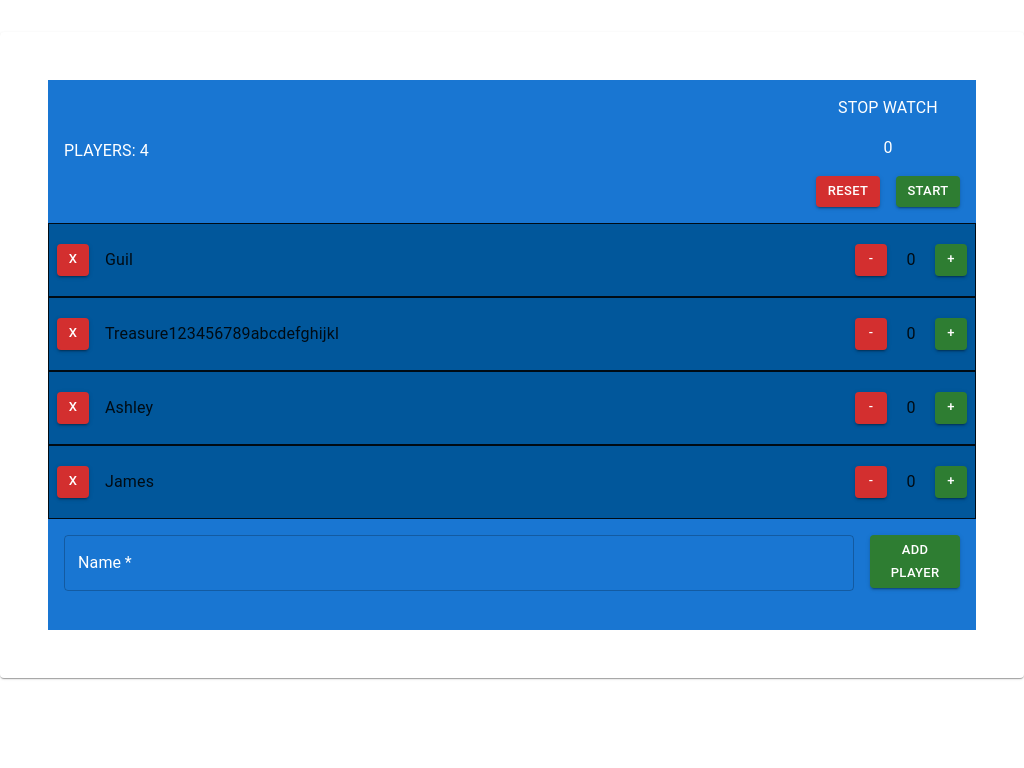
it: test Scoreboard › clicking the decrement button decrements the score by one
This screenshot has width=1024, height=768.
Click the button "-" in the row of "Guil" at (871, 260), box [855,244,887,276]
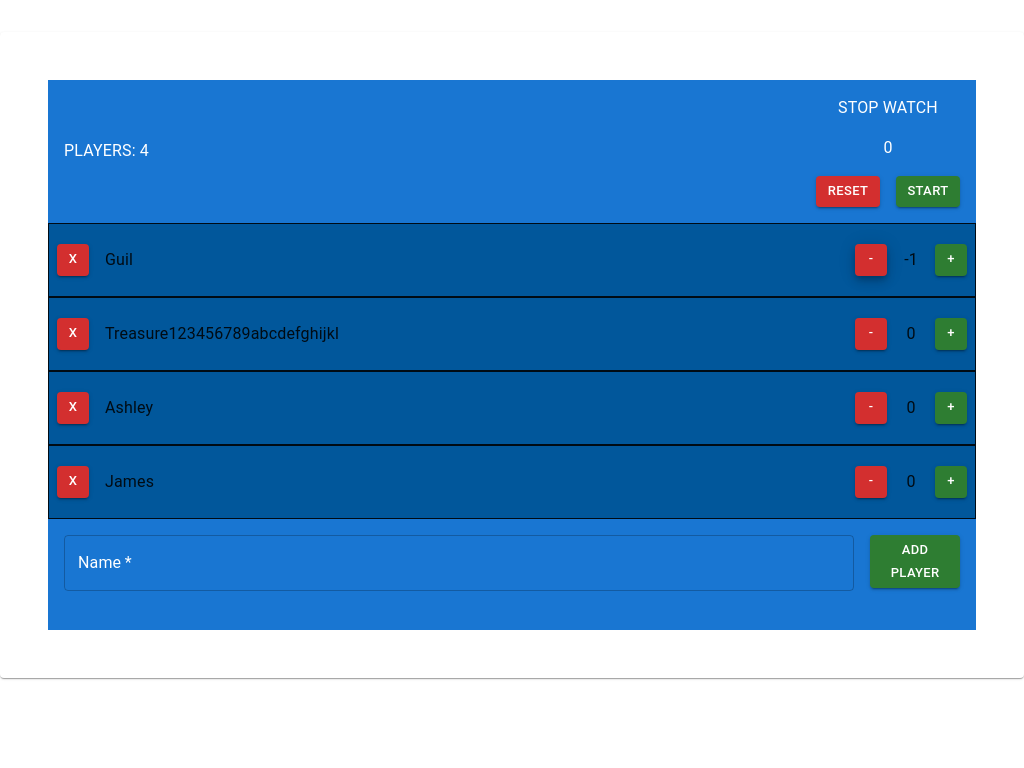
Now the text "-1" is shown, box [904,250,918,269]
